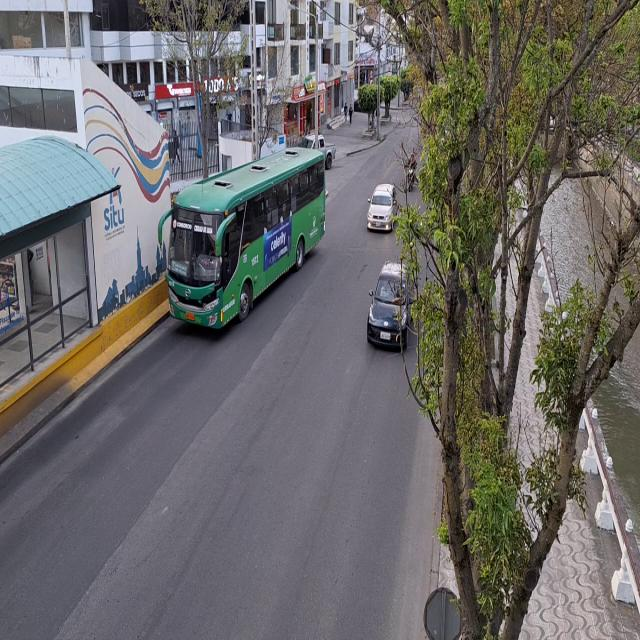BUS: (170, 153, 330, 337)
